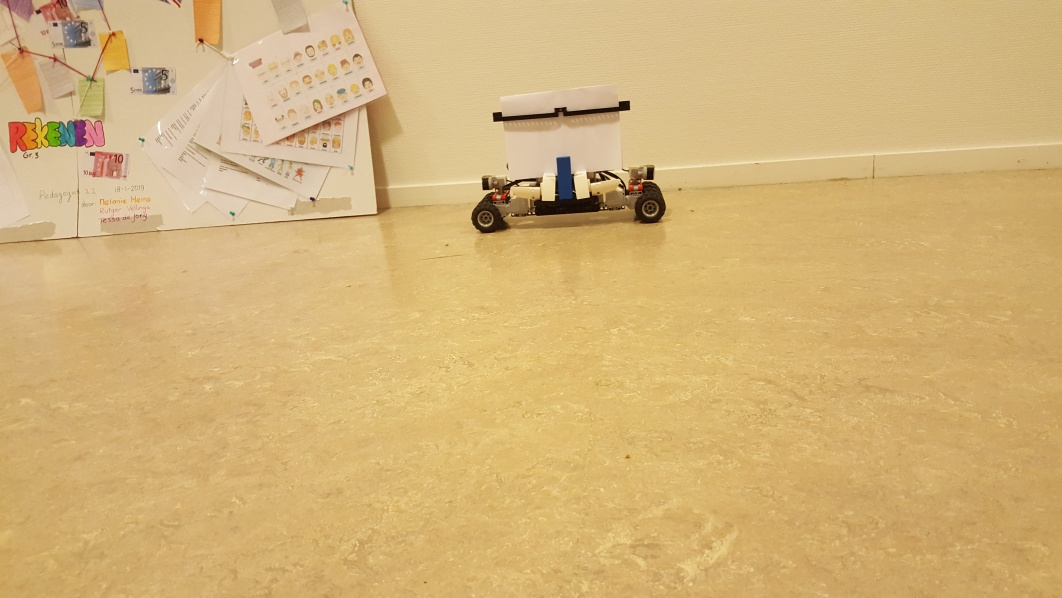car: (473, 82, 668, 230)
